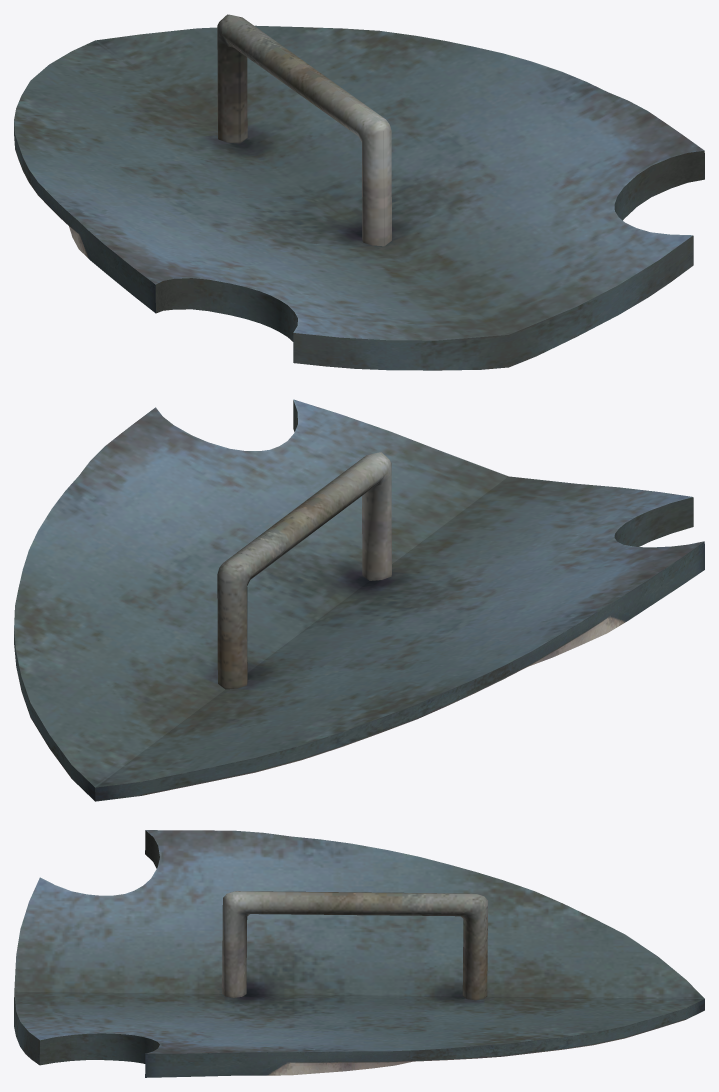
Rendered from Frederick's shield.fbx.
The picture shows the model from 3 angles, top to bottom: view 1: azimuth 30°, elevation 25°; view 2: azimuth 150°, elevation 25°; view 3: azimuth 270°, elevation 25°; orthographic projection. The views are drawn at different scales.
Visible parts, largest first — view 1: surface_000; view 2: surface_000; view 3: surface_000.
Part boxes in pixels (<box>): surface_000: <box>14,14,704,370</box>; surface_000: <box>14,399,704,801</box>; surface_000: <box>14,830,704,1077</box>.
Size of the model in its own units: 761 by 217 by 993.
